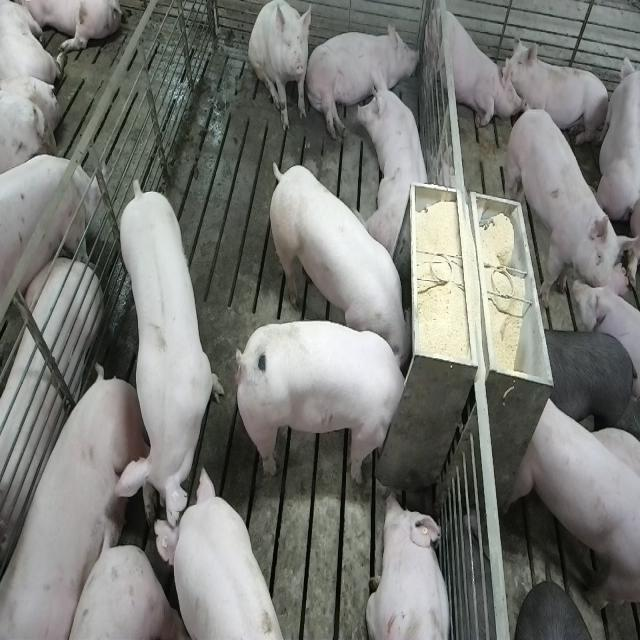Feeding: (264, 160, 412, 367), (241, 319, 416, 485)
Lateral_lying: (4, 369, 158, 640), (306, 21, 420, 140)
Sitting: (425, 0, 515, 134), (249, 2, 311, 134)
Standing: (112, 181, 219, 544), (511, 394, 638, 617), (508, 100, 632, 318), (151, 468, 282, 640), (0, 156, 100, 350), (544, 323, 637, 442)
Sternal_lying: (360, 64, 433, 258), (365, 490, 453, 640), (504, 36, 612, 152)
